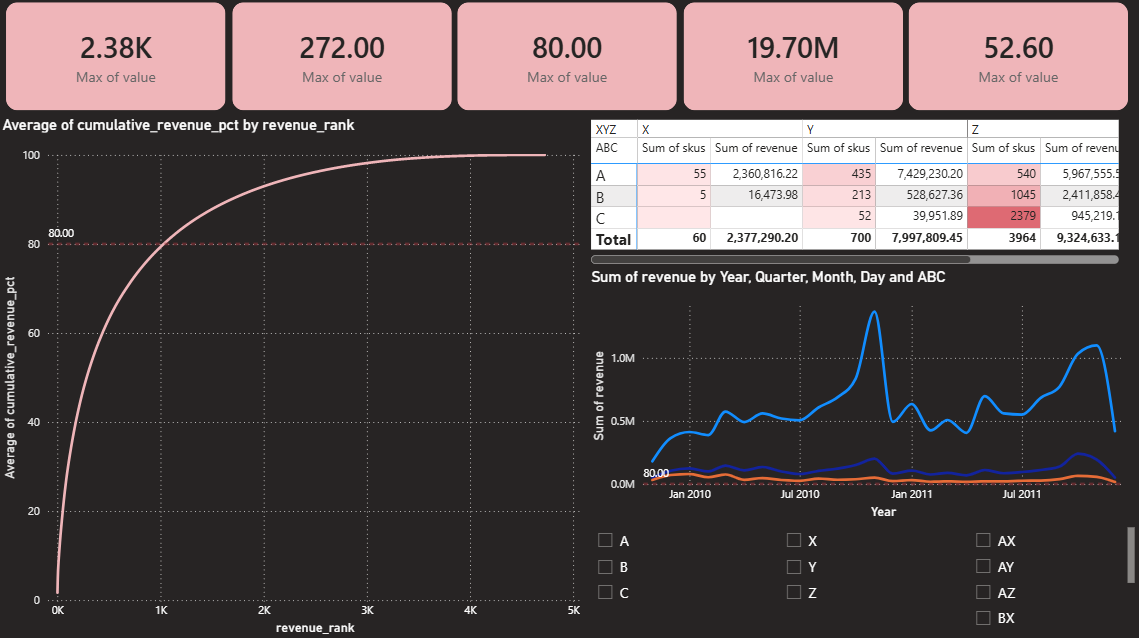

This screenshot's page, from the dashboard's own definition file:
{"tool":"powerbi","page":{"name":"Where the money is","canvas":[1280,720],"ordinal":0},"visuals":[{"type":"cardVisual","fields":{"Data":["Max(kpi_cards.value)"]},"box":[763.8,0.6,256,131.7],"z":0},{"type":"cardVisual","fields":{"Data":["Max(kpi_cards.value)"]},"box":[4.5,0.6,256,131.7],"z":1000},{"type":"cardVisual","fields":{"Data":["Max(kpi_cards.value)"]},"box":[1016.9,0.6,256,131.7],"z":2000},{"type":"cardVisual","fields":{"Data":["Max(kpi_cards.value)"]},"box":[257.6,0.6,256,131.7],"z":3000},{"type":"cardVisual","fields":{"Data":["Max(kpi_cards.value)"]},"box":[510.7,0.6,256,131.7],"z":4000},{"type":"lineChart","fields":{"Category":["dim_product.revenue_rank"],"Y":["Avg(dim_product.cumulative_revenue_pct)"]},"box":[0,131.8,660.5,587.6],"z":5000},{"type":"pivotTable","fields":{"Rows":["summary_abc_xyz.ABC"],"Columns":["summary_abc_xyz.XYZ"],"Values":["Sum(summary_abc_xyz.skus)","Sum(summary_abc_xyz.revenue)"]},"box":[660.5,131.8,601.6,171.1],"z":6000},{"type":"lineChart","fields":{"Category":["summary_monthly.month.Variation.Date Hierarchy.Year","summary_monthly.month.Variation.Date Hierarchy.Quarter","summary_monthly.month.Variation.Date Hierarchy.Month","summary_monthly.month.Variation.Date Hierarchy.Day"],"Y":["Sum(summary_monthly.revenue)"],"Series":["summary_monthly.ABC"]},"box":[660.5,302.9,619.8,286.1],"z":7000},{"type":"slicer","fields":{"Values":["dim_product.ABC"]},"box":[660.5,589,211.7,130.4],"z":8000},{"type":"slicer","fields":{"Values":["dim_product.XYZ"]},"box":[872.2,589,211.7,130.4],"z":9000},{"type":"slicer","fields":{"Values":["dim_product.class"]},"box":[1084,589,196.3,130.4],"z":10000}]}

Visuals, with their boxes in screenshot pixels (x1, y1, x2, y2), scaled from the page's 1280x720 canvas onto the 1139x638 screenshot:
cardVisual - Max(kpi_cards.value): <box>680,1,907,117</box>
cardVisual - Max(kpi_cards.value): <box>4,1,232,117</box>
cardVisual - Max(kpi_cards.value): <box>905,1,1133,117</box>
cardVisual - Max(kpi_cards.value): <box>229,1,457,117</box>
cardVisual - Max(kpi_cards.value): <box>454,1,682,117</box>
lineChart - dim_product.revenue_rank x Avg(dim_product.cumulative_revenue_pct): <box>0,117,588,637</box>
pivotTable - summary_abc_xyz.ABC x summary_abc_xyz.XYZ: <box>588,117,1123,268</box>
lineChart - summary_monthly.month.Variation.Date Hierarchy.Year x summary_monthly.month.Variation.Date Hierarchy.Quarter: <box>588,268,1138,522</box>
slicer - dim_product.ABC: <box>588,522,776,637</box>
slicer - dim_product.XYZ: <box>776,522,965,637</box>
slicer - dim_product.class: <box>965,522,1138,637</box>
